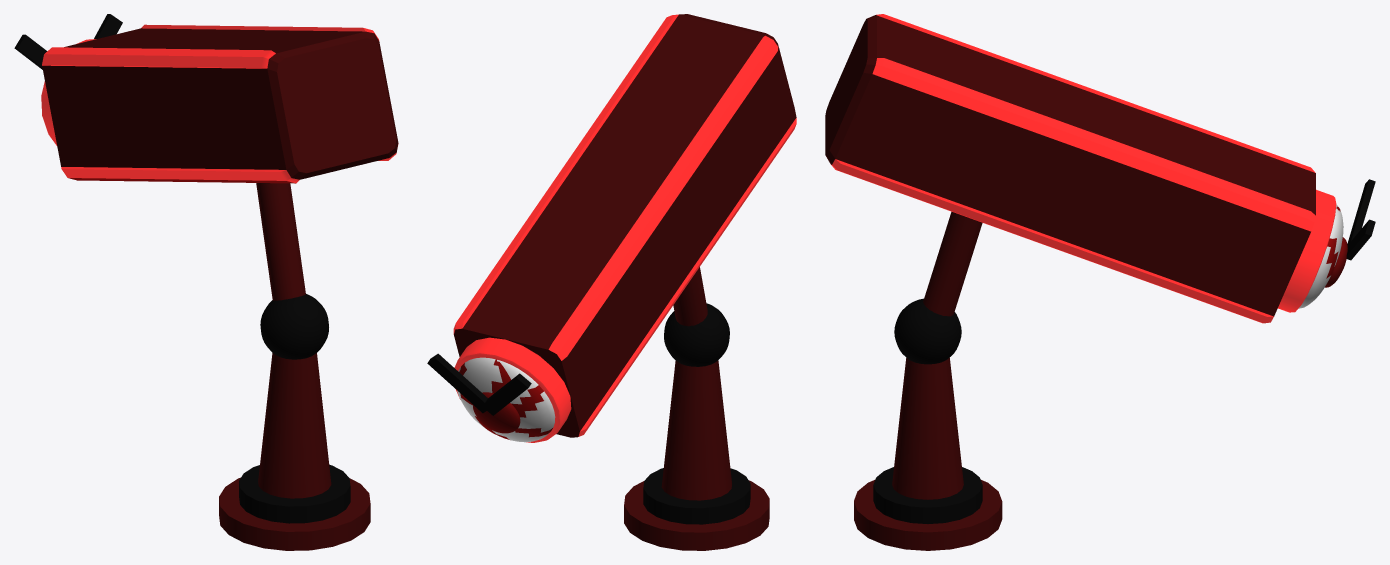
The model's file is Spyware.fbx.
The picture shows the model from 3 angles, left to right: view 1: azimuth 30°, elevation 25°; view 2: azimuth 150°, elevation 25°; view 3: azimuth 270°, elevation 25°; orthographic projection. The views are drawn at different scales.
Visible parts, largest first — view 1: Spyware; view 2: Spyware; view 3: Spyware.
Part boxes in pixels (left/top/right/bottom): Spyware: left=14, top=14, right=398, bottom=550; Spyware: left=427, top=14, right=796, bottom=550; Spyware: left=825, top=14, right=1375, bottom=550.
Bounding box in the file's own units: 1.28 × 4.6 × 4.75.
